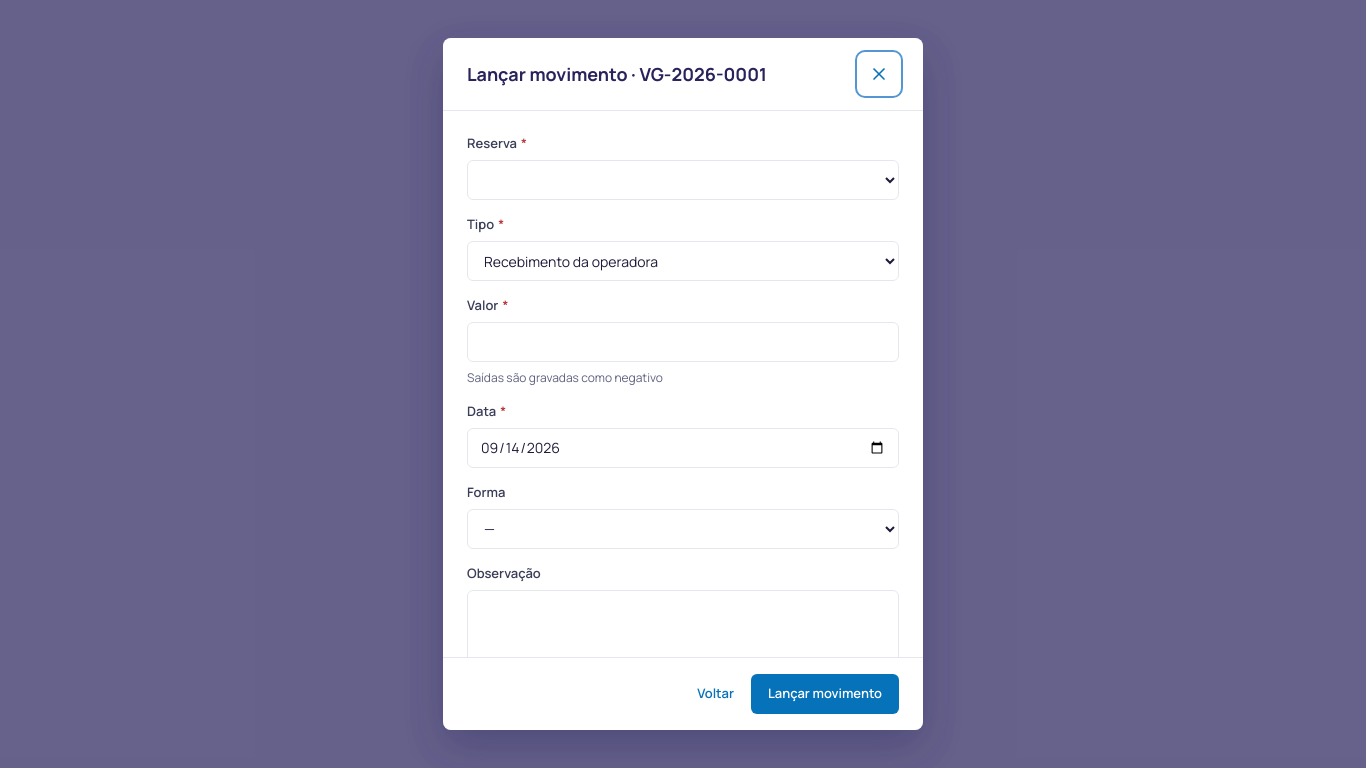
Test: reserva cancelada entra na lista quando o tipo é estorno/reembolso (viagem cancelada)
Expected: the 1st dropdown labelled "Reserva *" shows "CVC · K7X2PQ", top-left (467, 160), bottom-right (899, 200)
Select "Reembolso ao cliente" in the dropdown labelled "Tipo *" at (683, 261), box top-left (467, 241), bottom-right (899, 281)
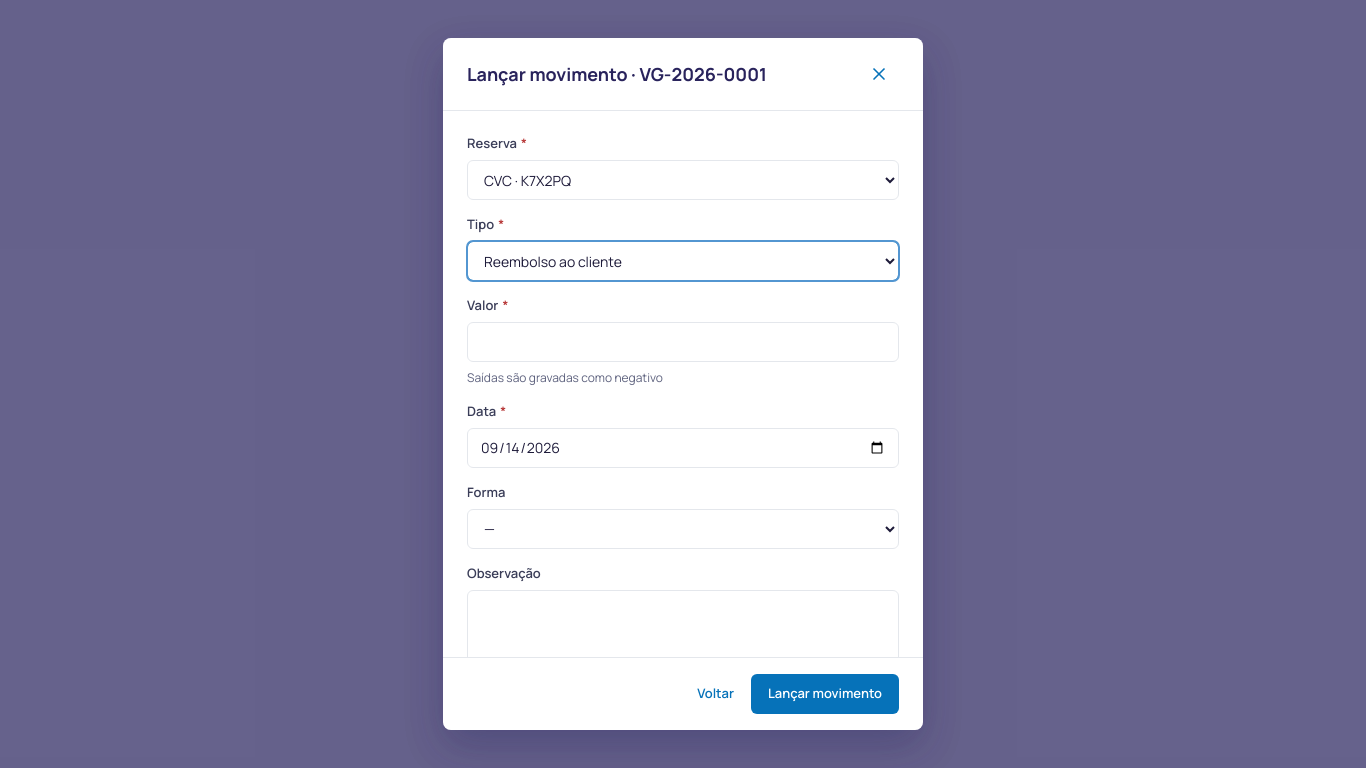
Expected: the dropdown labelled "Reserva *" shows "CVC · K7X2PQ", top-left (467, 160), bottom-right (899, 200)
